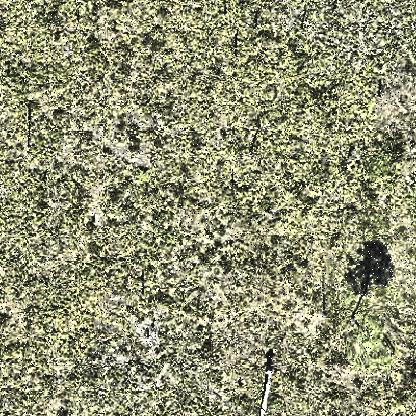tree-top: (343, 316, 405, 381)
